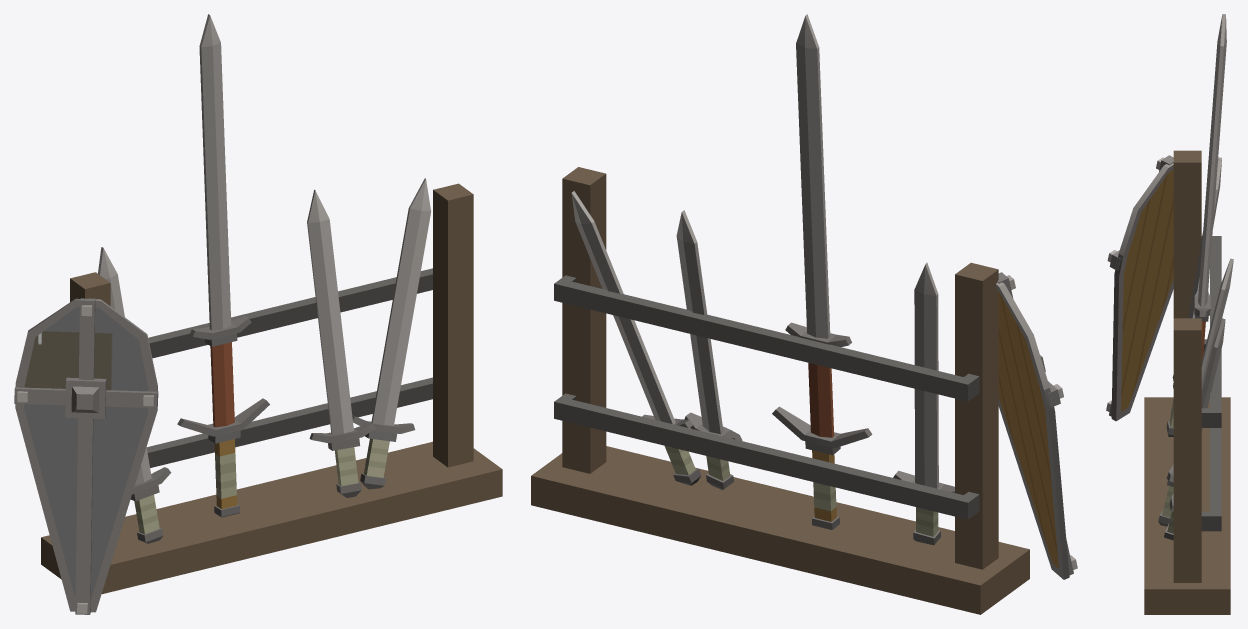
The model's file is SD_Prop_WeaponRack_04.fbx.
3 views of the same model, side by side, from view 1: azimuth 30°, elevation 25°; view 2: azimuth 150°, elevation 25°; view 3: azimuth 270°, elevation 25° (orthographic). The views are drawn at different scales.
Visible parts, largest first — view 1: SD_Prop_WeaponRack_04; view 2: SD_Prop_WeaponRack_04; view 3: SD_Prop_WeaponRack_04.
Part boxes in pixels (<box>): SD_Prop_WeaponRack_04: <box>14,14,502,614</box>; SD_Prop_WeaponRack_04: <box>531,14,1077,614</box>; SD_Prop_WeaponRack_04: <box>1106,14,1233,614</box>.
Size of the model in its own units: 3.74 by 3.94 by 0.9377.
